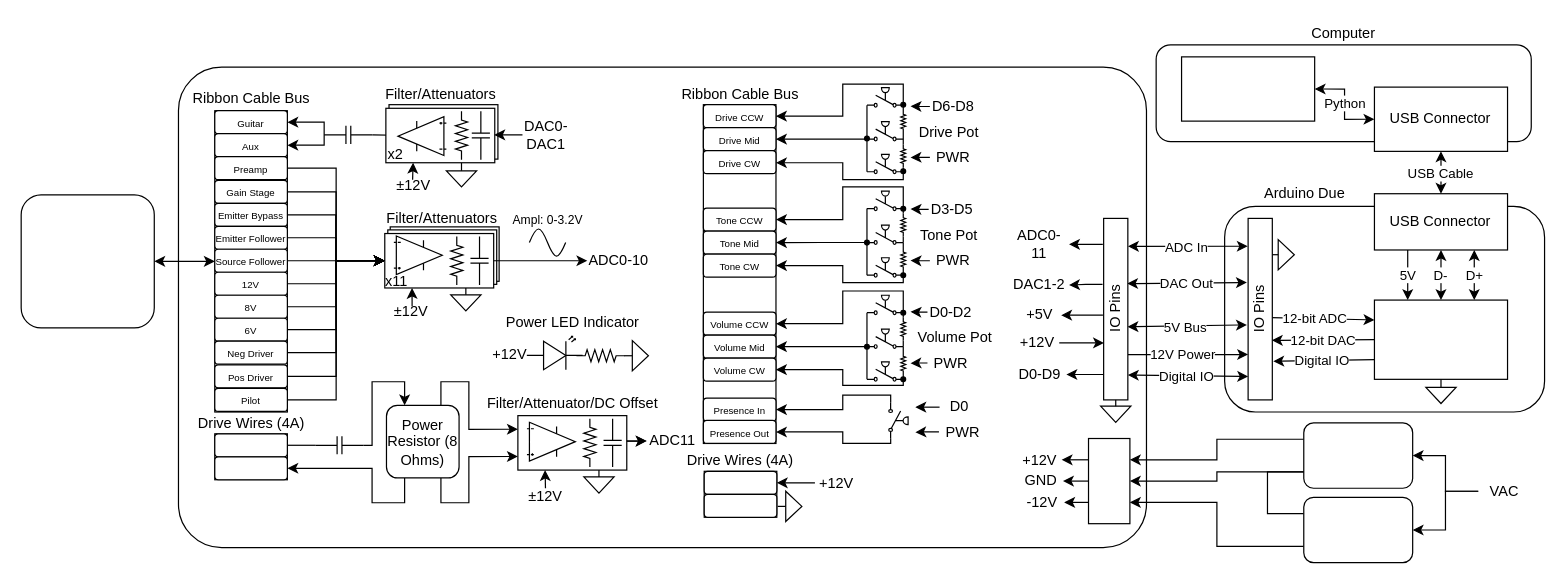
Some shapes in this 1566 by 584 pixel diagram are drawn without their labels. The shapes that lost their labels are listed below. From the top down, each one's centre as x and y in pixels, then its label:
point (1247, 88): GUI Control and Data Visualization (Electron JS)
point (87, 261): Bed Of Nails (To DUT)
point (1440, 339): SAM Microcontroller
point (250, 445): SPKR Pos
point (1358, 455): +12V (36W) Power Supply (RS-35-12)
point (250, 468): SPKR Neg
point (740, 482): 12V Output
point (1108, 480): Screw Terminals
point (740, 505): Ground
point (1358, 529): -12V (36W) Power Supply (RS-35-12)
